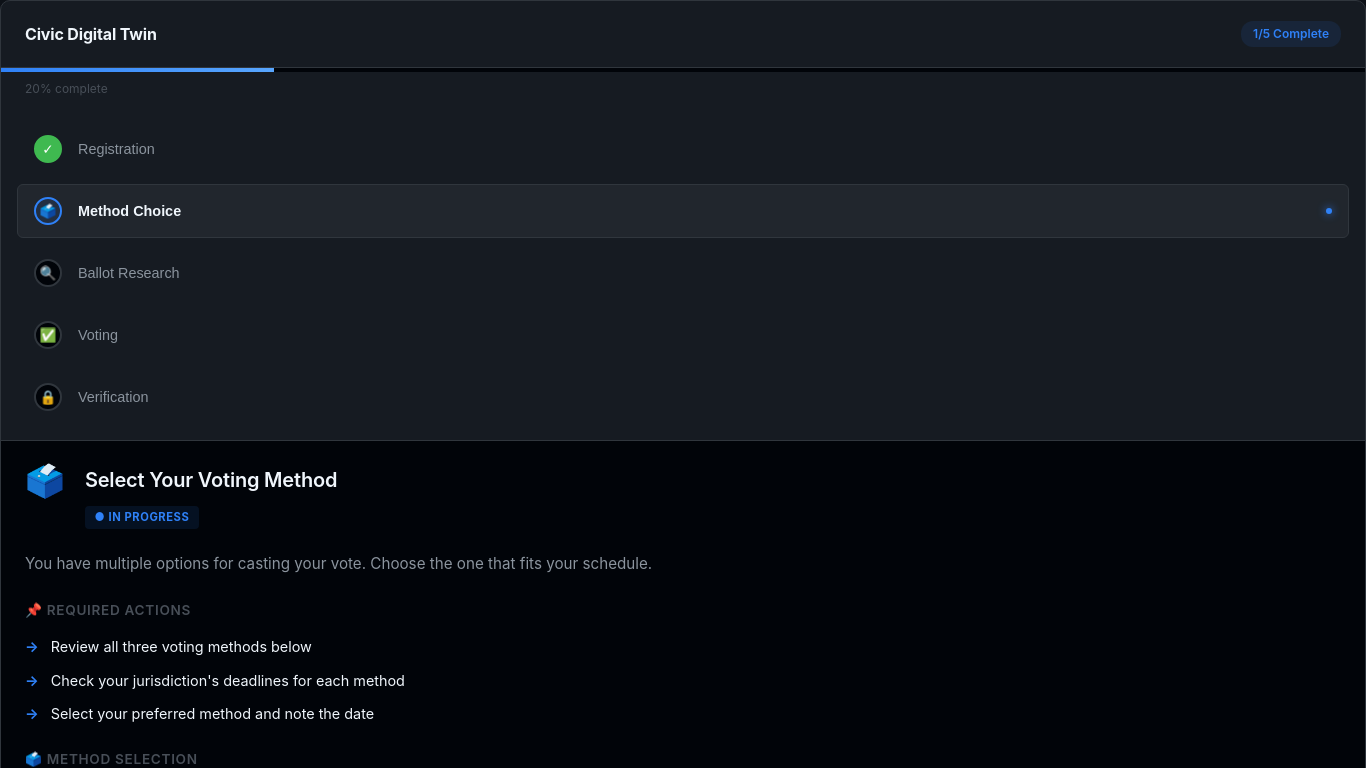
Scenario: Step Click Interaction › clicking Registration shows its headline
This screenshot has width=1366, height=768.
Click the button "✓ Registration".
click(116, 149)  # box left=17, top=122, right=1349, bottom=176
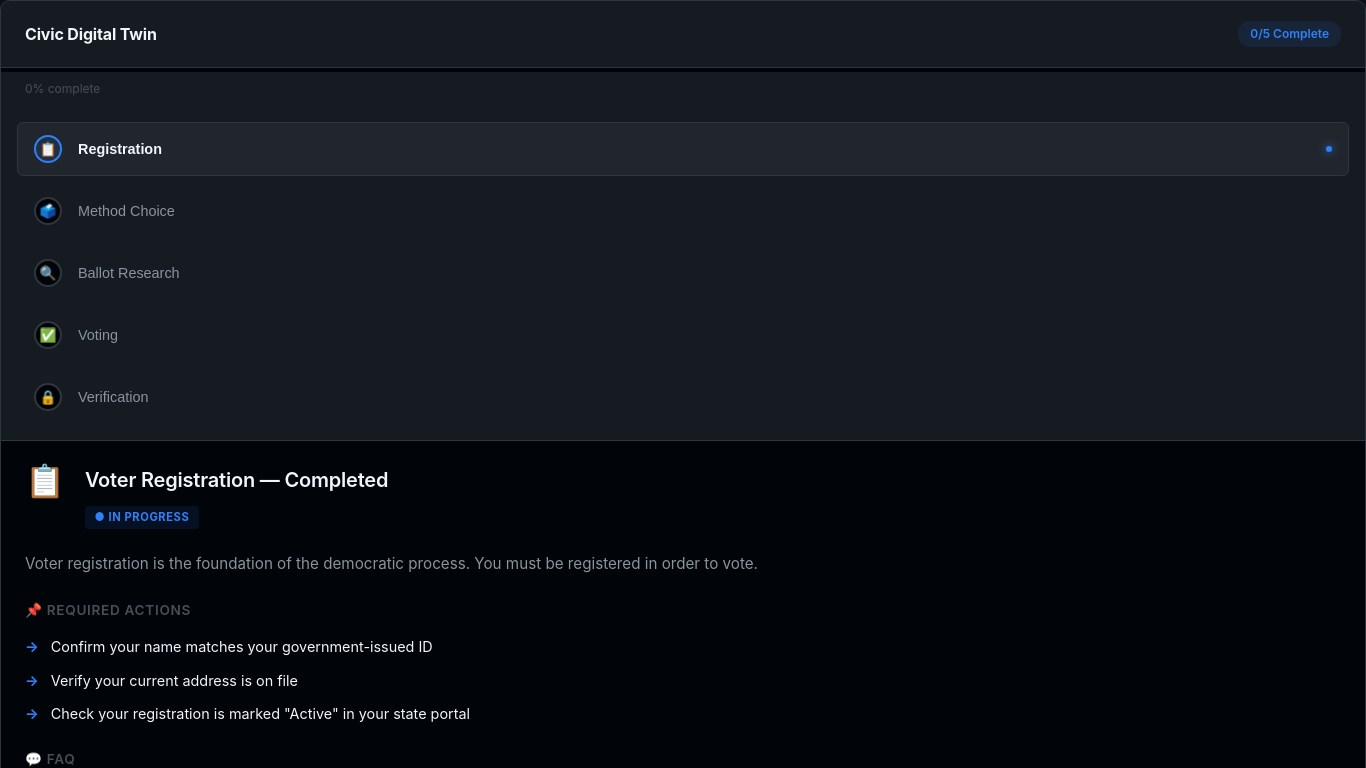
Result: the heading "Voter Registration — Completed" is shown at left=85, top=465, right=388, bottom=495
